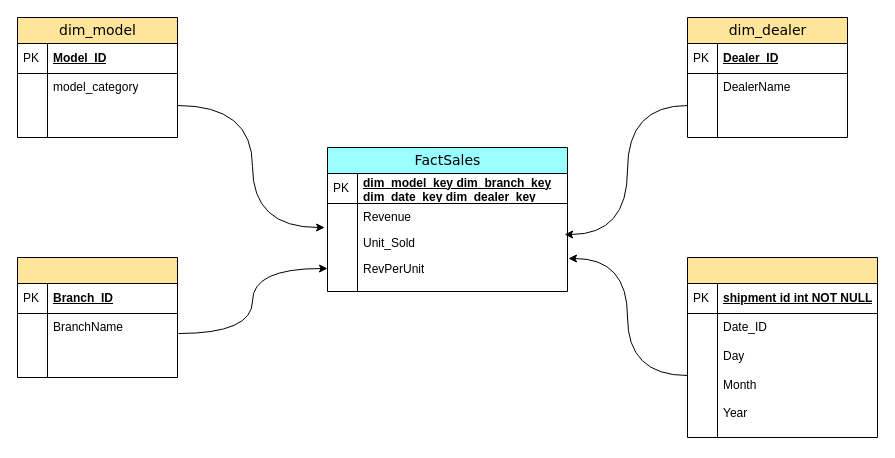
Image size: 895x458. Some labels were removed from this diagram. Each missing label, with the box of its shape:
dim_branch: (16, 256, 178, 378)
dim_date: (686, 256, 878, 438)
